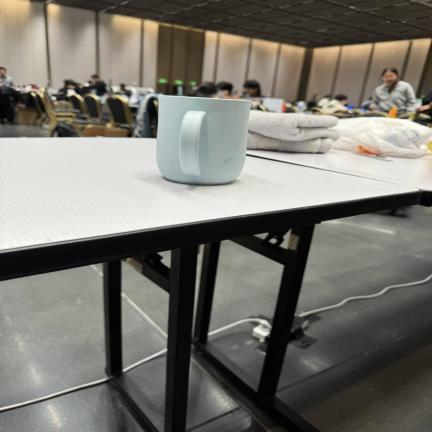cup: (157, 96, 251, 185)
